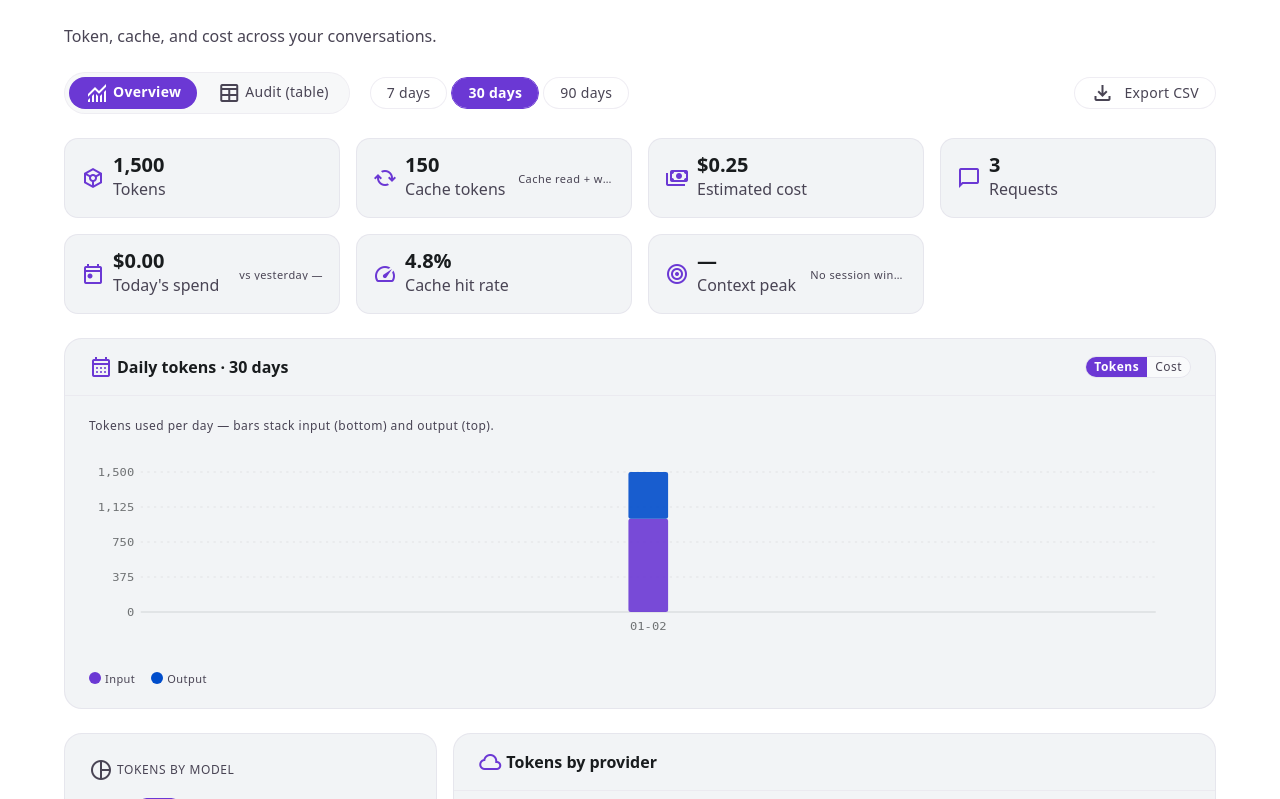
Usage page › updates the byDay chart title when the range filter changes
Check: the heading "Daily tokens · 30 days" is shown, box [117,355,288,379]
Click the button "7 days".
click(409, 93)  # box [370,77,447,109]
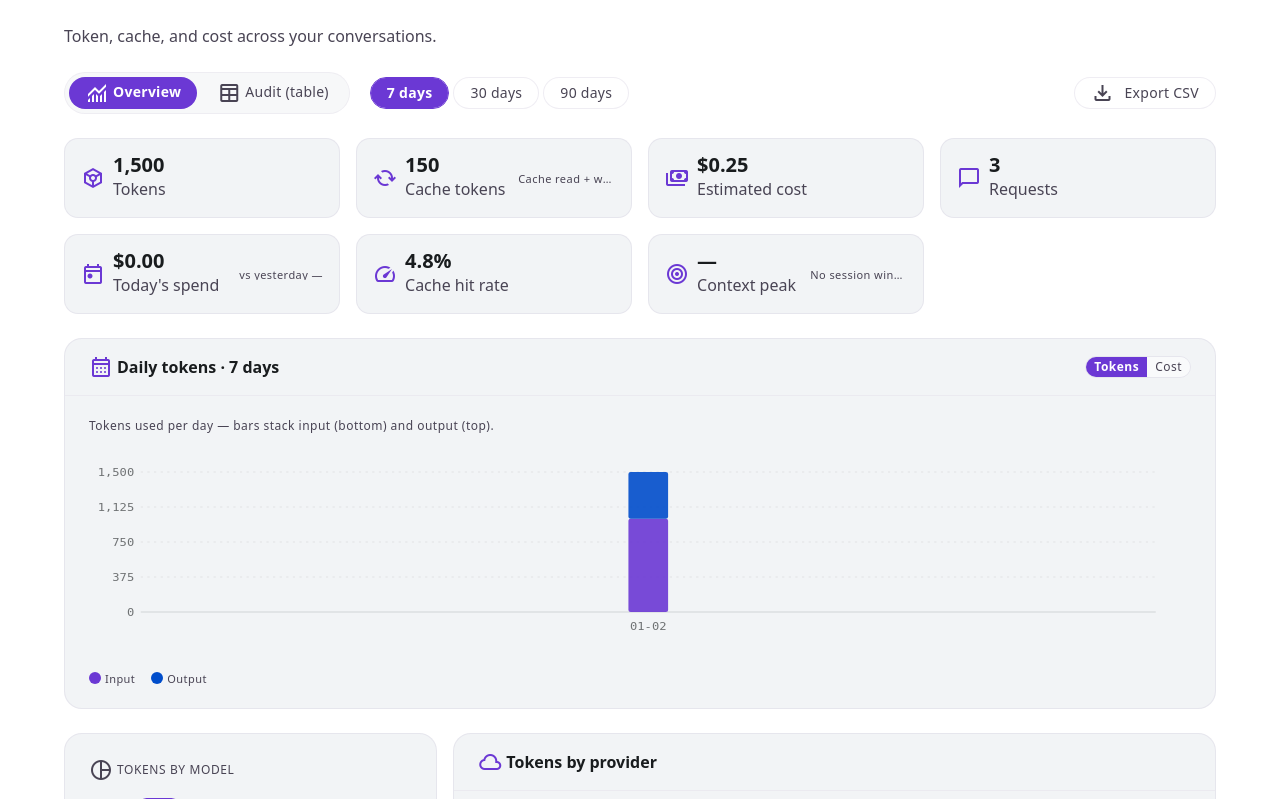
Check: the heading "Daily tokens · 7 days" is shown, box [117,355,279,379]
Check: the heading "Daily tokens · 30 days" is gone
